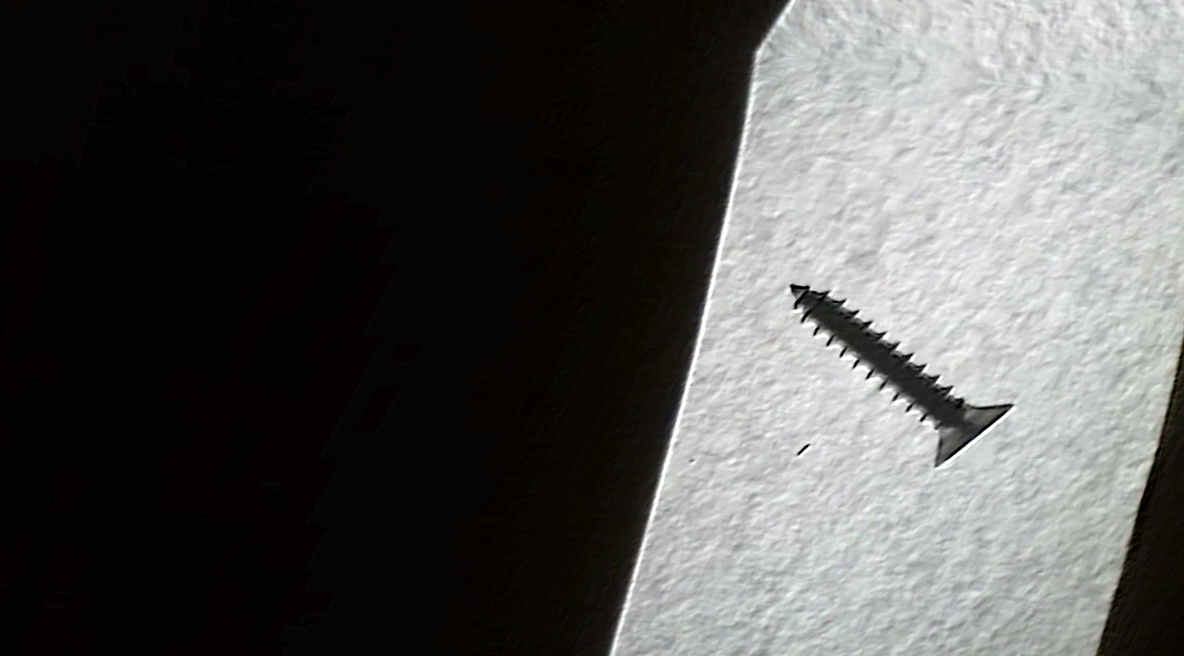S001: (693, 262, 1086, 489)
